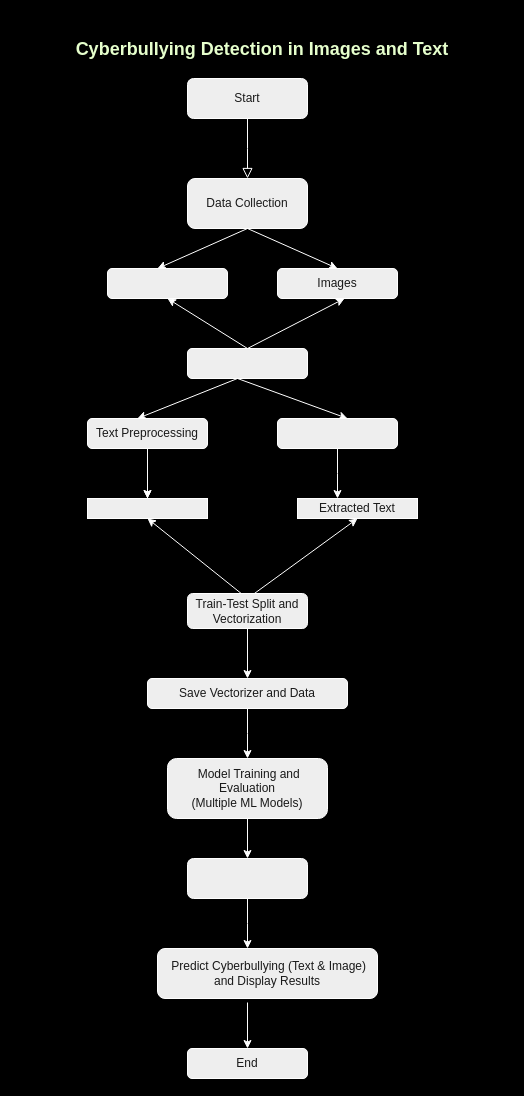
This 524x1096 diagram has some shape labels left out. The centre of each missing label's shape, as x and y in pixels:
CSV File: point 167,283
Image Preprocessing: point 337,433
Preprcess CSV: point 147,508
Preprocessing: point 247,363
Save Best Model: point 247,878
